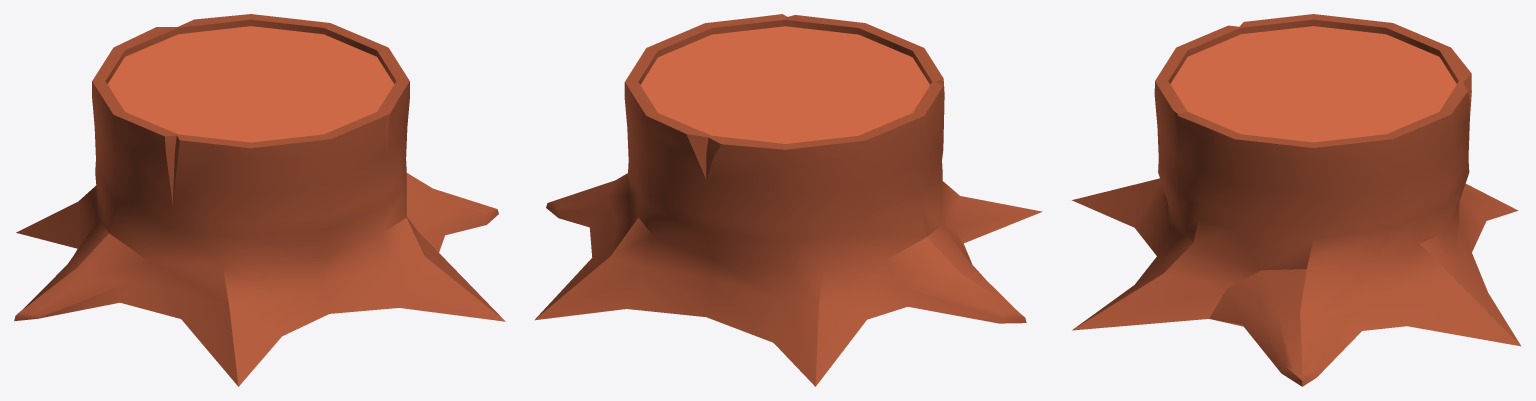
The model's file is trunk.fbx.
The picture shows the model from 3 angles, left to right: view 1: azimuth 30°, elevation 25°; view 2: azimuth 150°, elevation 25°; view 3: azimuth 270°, elevation 25°; orthographic projection.
Visible parts, largest first — view 1: Circle; view 2: Circle; view 3: Circle.
Boxes of the visible parts, bbox=[...] form: Circle: bbox=[14, 14, 505, 386]; Circle: bbox=[534, 14, 1042, 386]; Circle: bbox=[1072, 14, 1520, 386].
Size of the model in its own units: 401 by 156 by 326.
